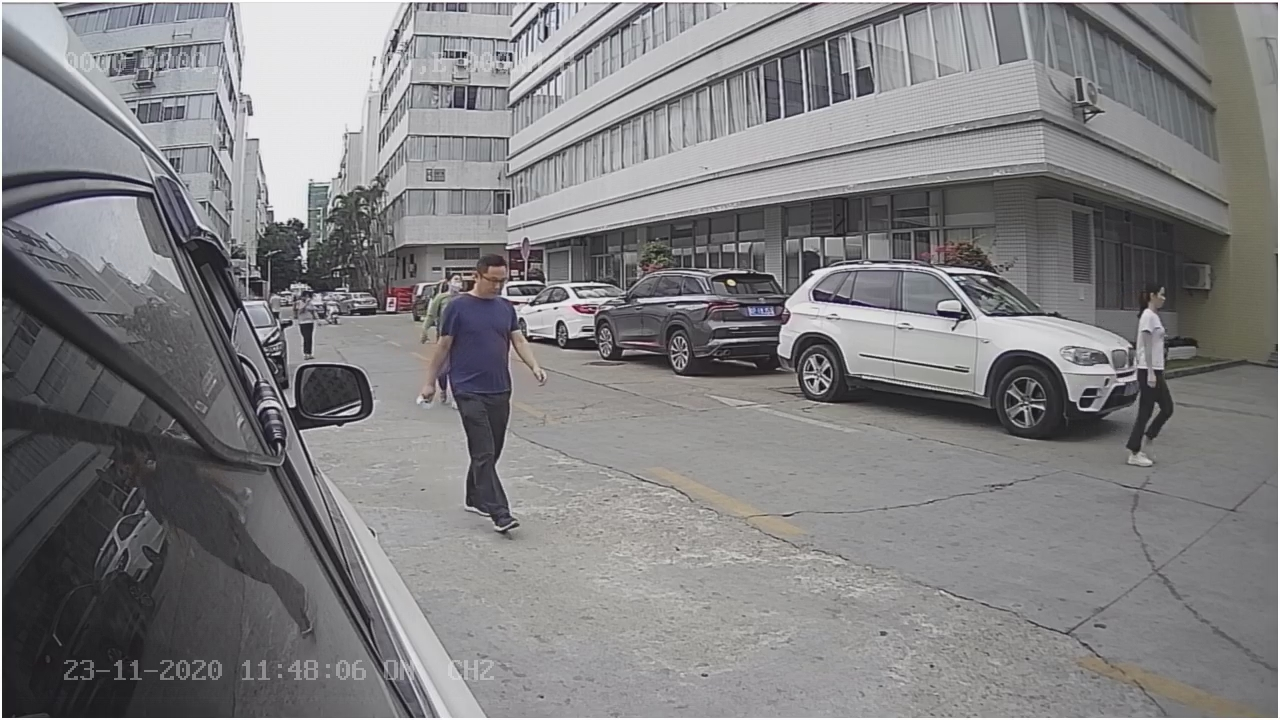person: (421, 247, 552, 535), (1119, 266, 1180, 465)
